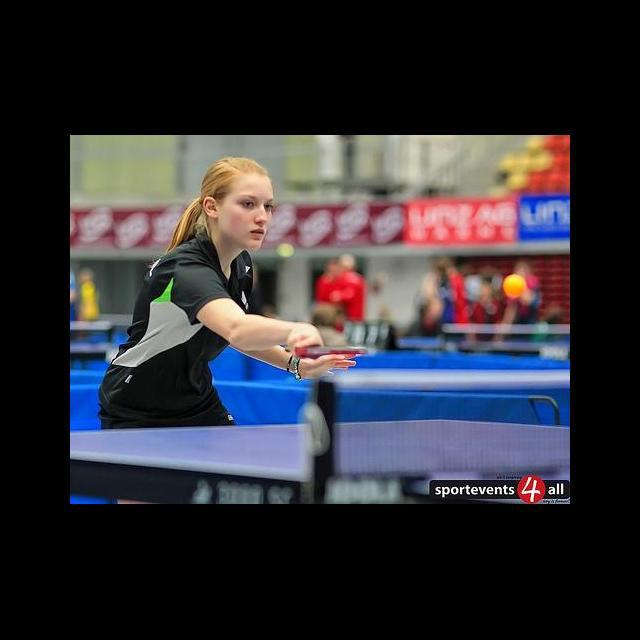ping-pong-ball: (502, 274, 526, 300)
